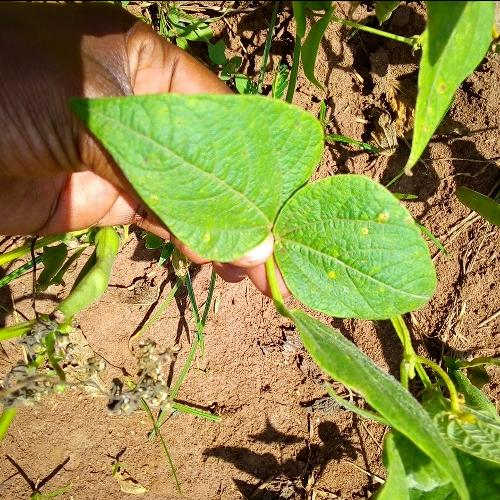mozaik: (164, 112, 288, 236), (302, 208, 398, 305)
